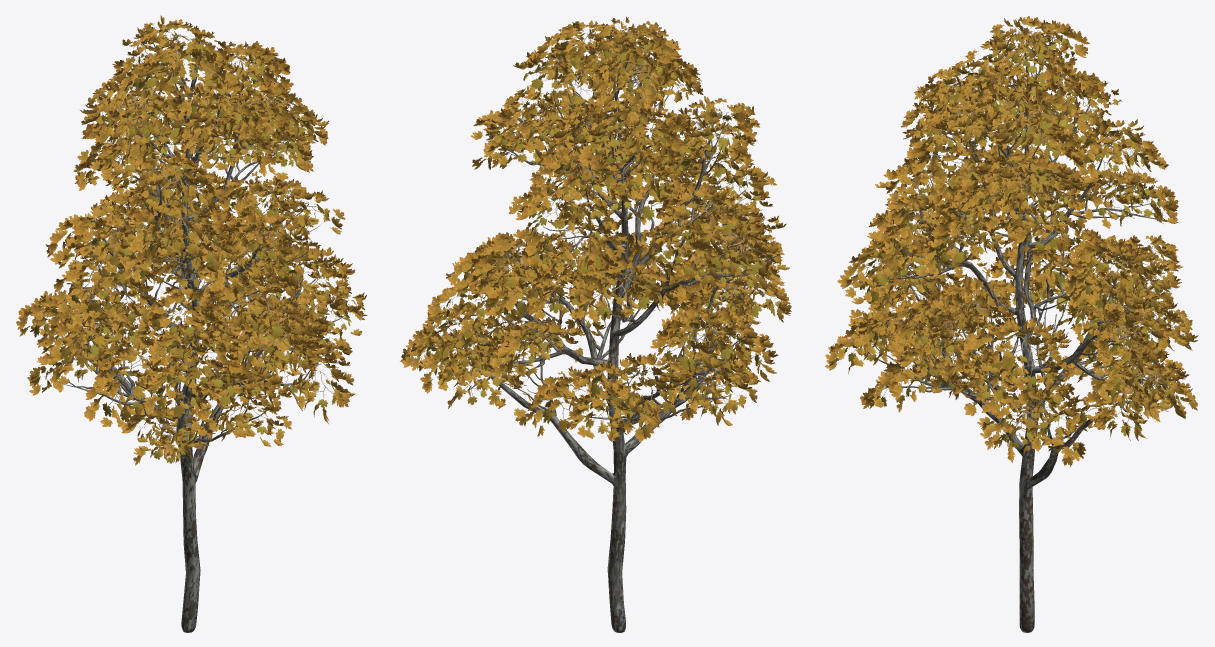
The model's file is platano_tree.glb.
The picture shows the model from 3 angles, left to right: view 1: azimuth 30°, elevation 25°; view 2: azimuth 150°, elevation 25°; view 3: azimuth 270°, elevation 25°; orthographic projection.
Visible parts, largest first — view 1: Platano-Tree; view 2: Platano-Tree; view 3: Platano-Tree.
Part boxes in pixels (box(x1,y1,x2,y2)): Platano-Tree: box(16, 15, 367, 632); Platano-Tree: box(400, 16, 791, 632); Platano-Tree: box(825, 16, 1198, 632).
Size of the model in its own units: 352 by 646 by 365.
Materials: 3 (3 with a texture image).
